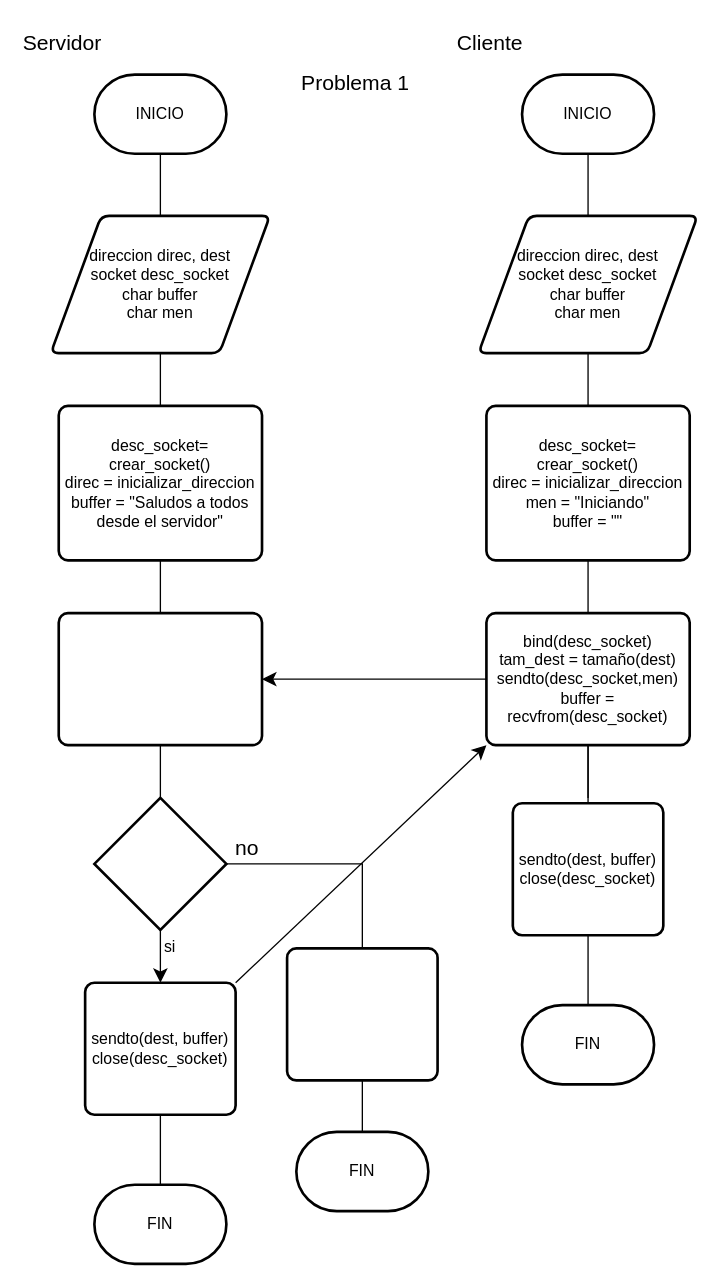
Image size: 721x1287. Some labels were removed from this diagram. Each missing label, with the centre of its shape:
bind(desc_socket) tam_dest = tamaño(dest) men = recvfrom(desc_socket): the point at 160,678
close(desc_socket): the point at 361,1013
men != NULL?: the point at 159,863
